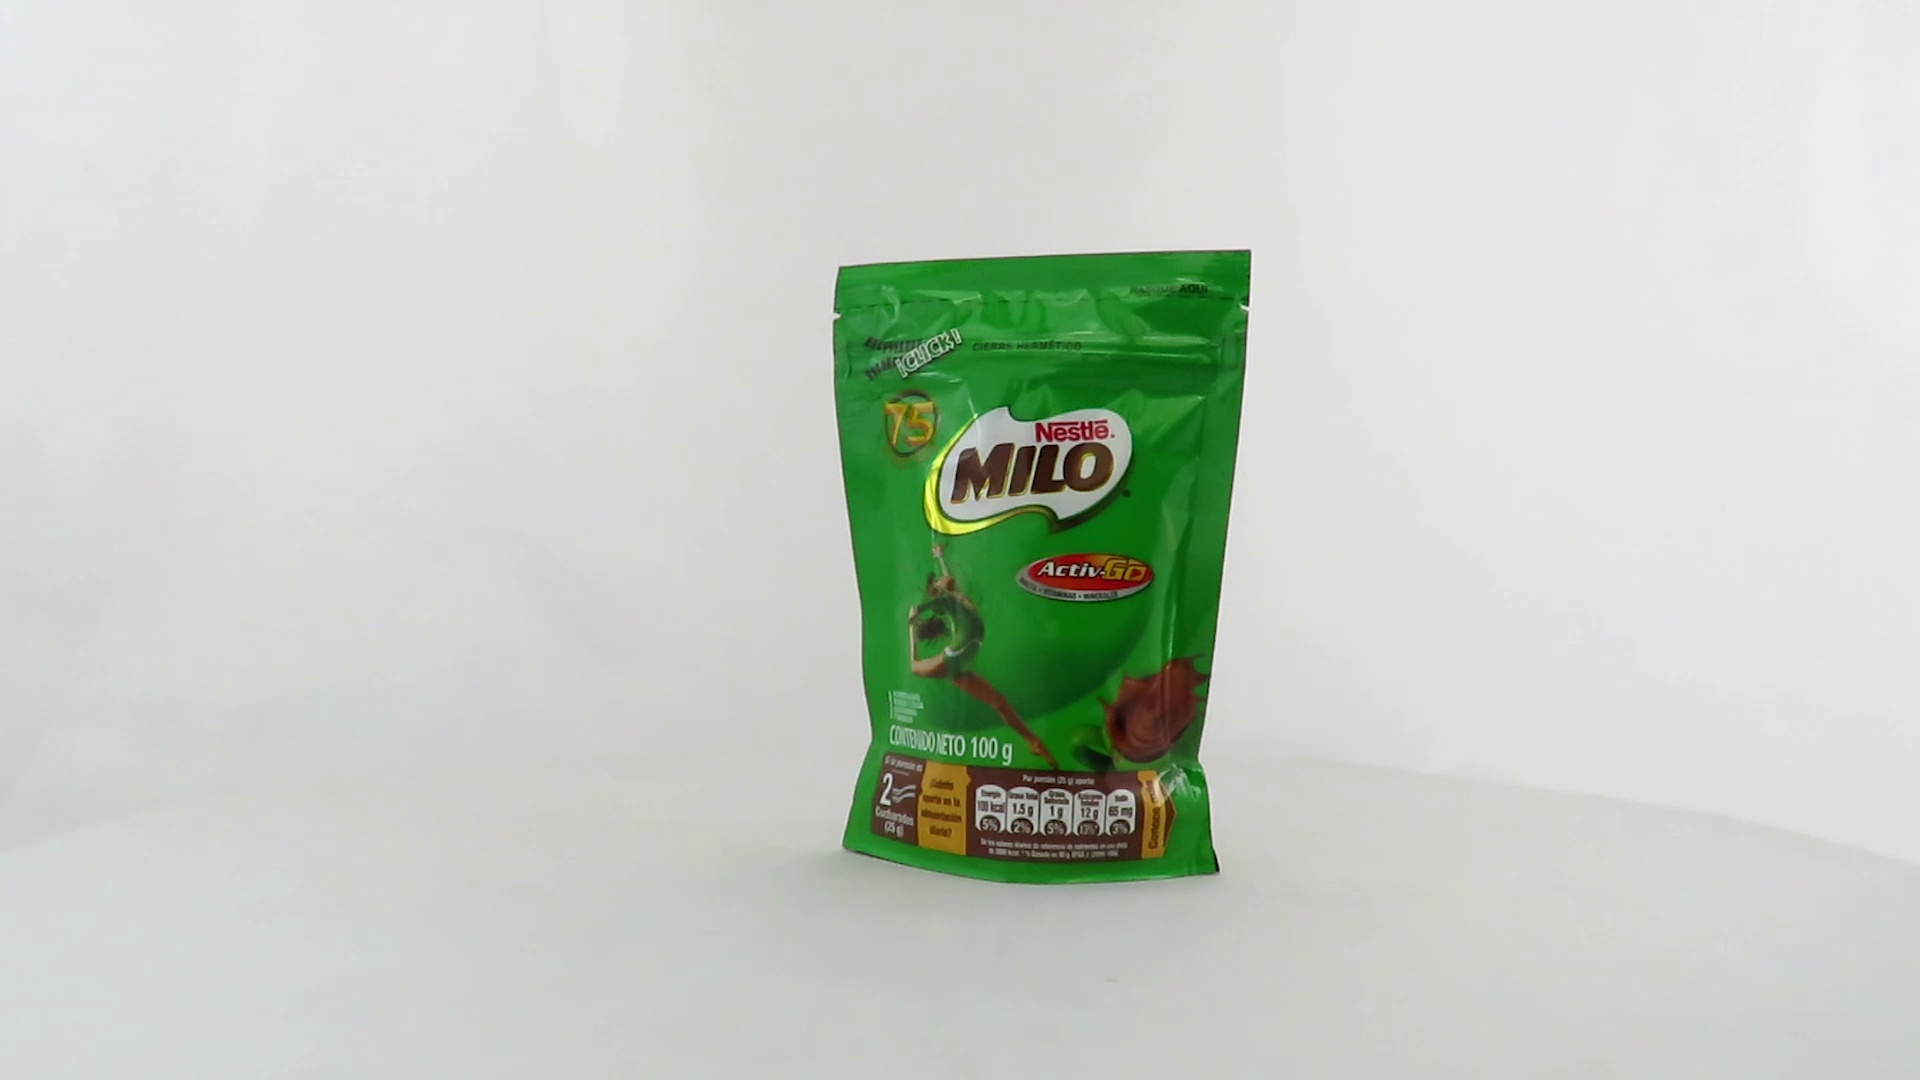COL0170203DYP10000: (827, 244, 1258, 891)
